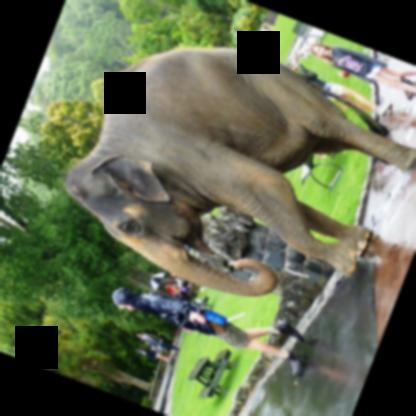handbag: (193, 303, 227, 331)
